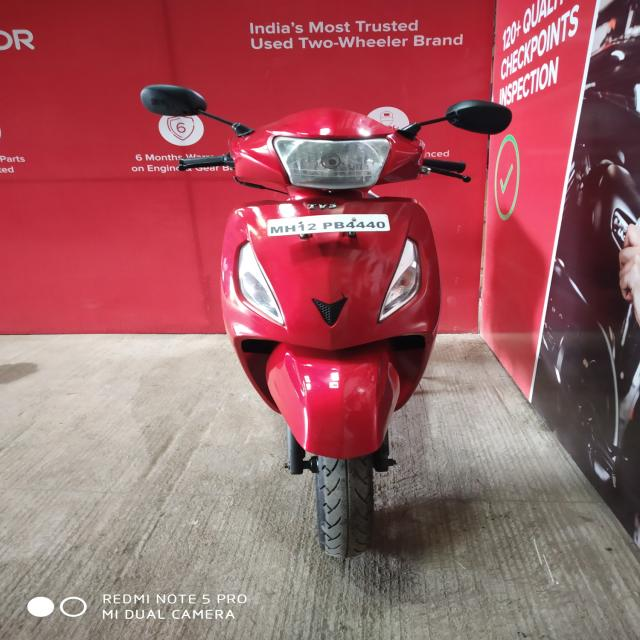license_plate: (265, 212, 391, 236)
